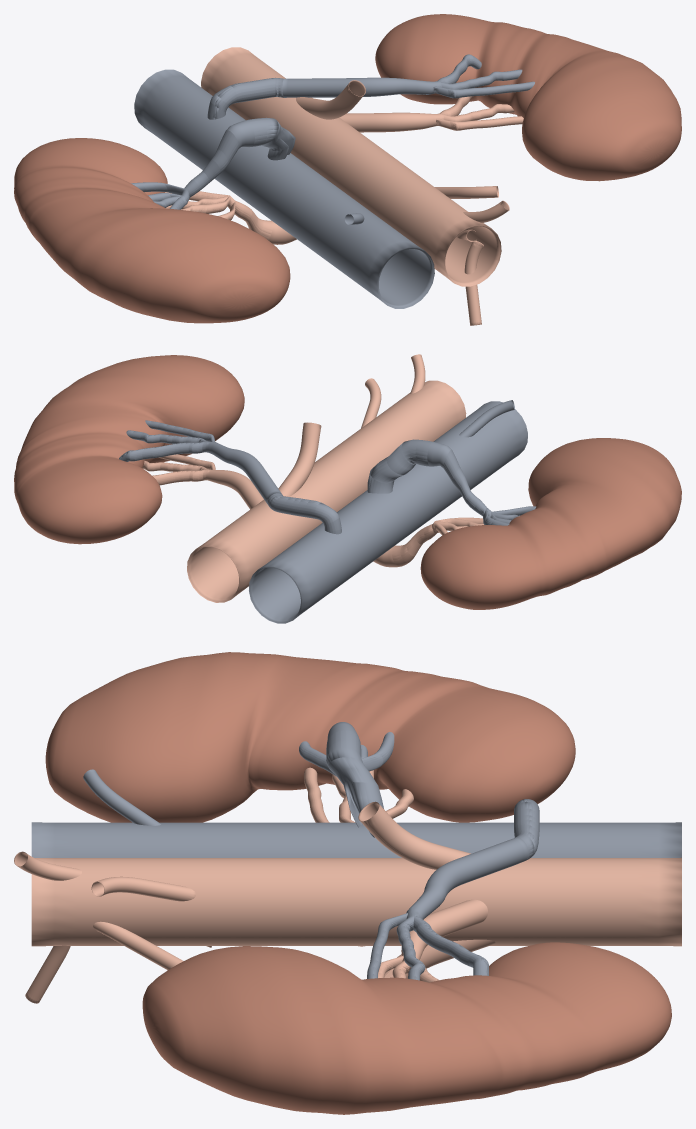
File: kidney.glb
3 renders of one model, top to bottom at view 1: azimuth 30°, elevation 25°; view 2: azimuth 150°, elevation 25°; view 3: azimuth 270°, elevation 25°, orthographic. The views are drawn at different scales.
Visible parts, largest first — view 1: kidney1, line1, kidney2, line2; view 2: kidney2, kidney1, line1, line2; view 3: kidney2, kidney1, line2, line1.
Part boxes in pixels (x1,y1,x2,y2): kidney1: (14, 138, 290, 323); line1: (131, 54, 534, 308); kidney2: (375, 14, 681, 181); line2: (165, 47, 523, 325); kidney2: (14, 355, 244, 544); kidney1: (420, 438, 681, 609); line1: (119, 400, 536, 623); line2: (142, 354, 483, 602); kidney2: (142, 942, 671, 1114); kidney1: (45, 652, 575, 822); line2: (14, 767, 681, 1003); line1: (31, 722, 681, 980).
Bounding box in the file's own units: 3.63 × 0.8357 × 2.51.
